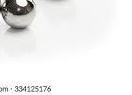ironball: (1, 0, 37, 34), (0, 0, 4, 26)
